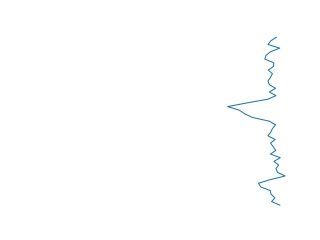interdistributaryEstuary: (226, 35, 288, 210)
